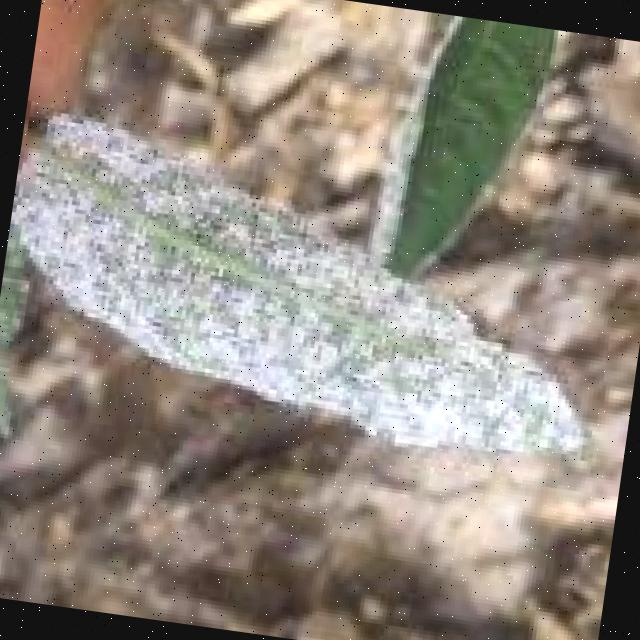whitefly: (0, 93, 640, 511)
